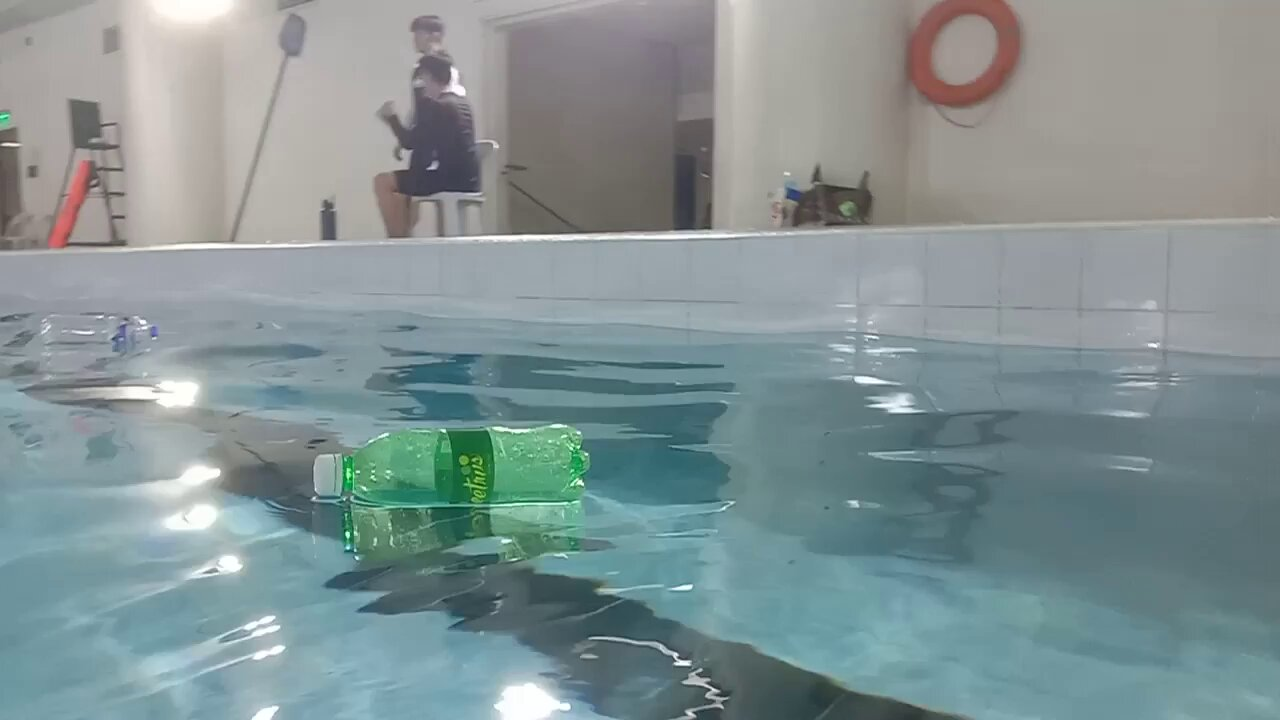plastic_bottle: (313, 421, 591, 505), (40, 312, 160, 348)
